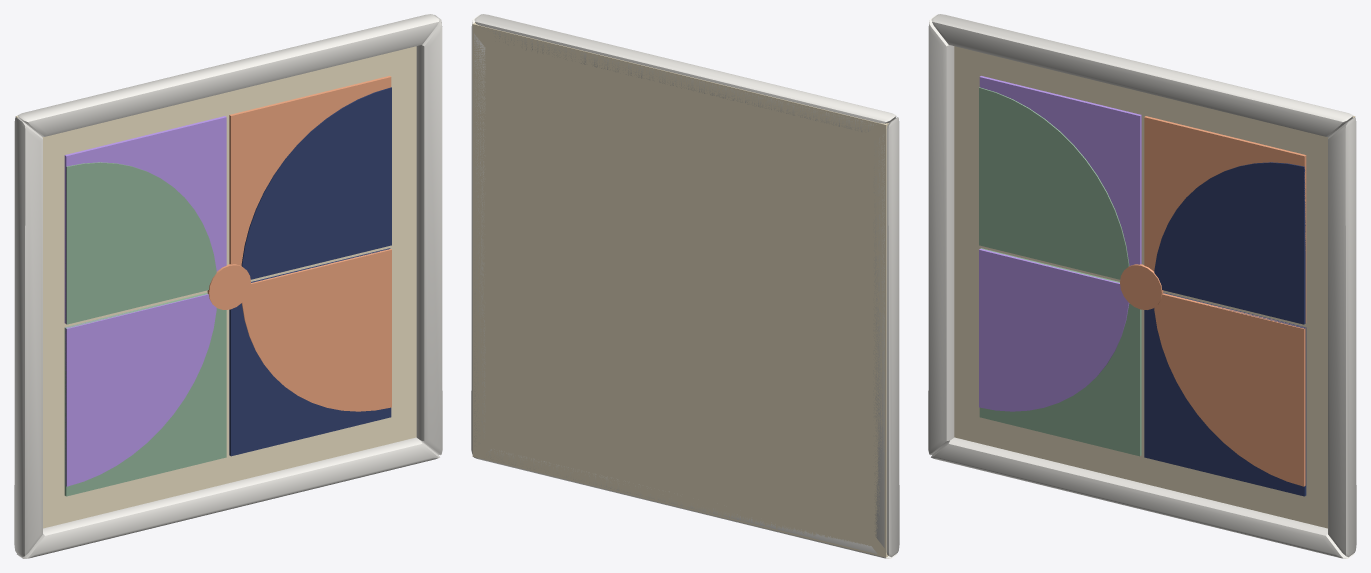
The model's file is wall_art_c.glb.
3 renders of one model, left to right at view 1: azimuth 30°, elevation 25°; view 2: azimuth 150°, elevation 25°; view 3: azimuth 330°, elevation 25°, orthographic.
Visible parts, largest first — view 1: frame_white, canvas, art_peach, art_lilac, art_sage, art_navy; view 2: canvas, frame_white; view 3: frame_white, canvas, art_peach, art_navy, art_lilac, art_sage.
Part boxes in pixels (x1,y1,x2,y2): frame_white: (14,14,442,558); canvas: (15,46,416,528); art_peach: (207,76,391,411); art_lilac: (64,116,226,486); art_sage: (64,162,226,496); art_navy: (229,87,391,456); canvas: (472,22,888,557); frame_white: (471,14,899,558); frame_white: (928,14,1356,558); canvas: (954,46,1355,528); art_peach: (1120,116,1306,486); art_navy: (1144,162,1306,496); art_lilac: (979,76,1141,411); art_sage: (979,87,1141,456).
Bounding box in the file's own units: 0.6 × 0.6 × 0.03.
